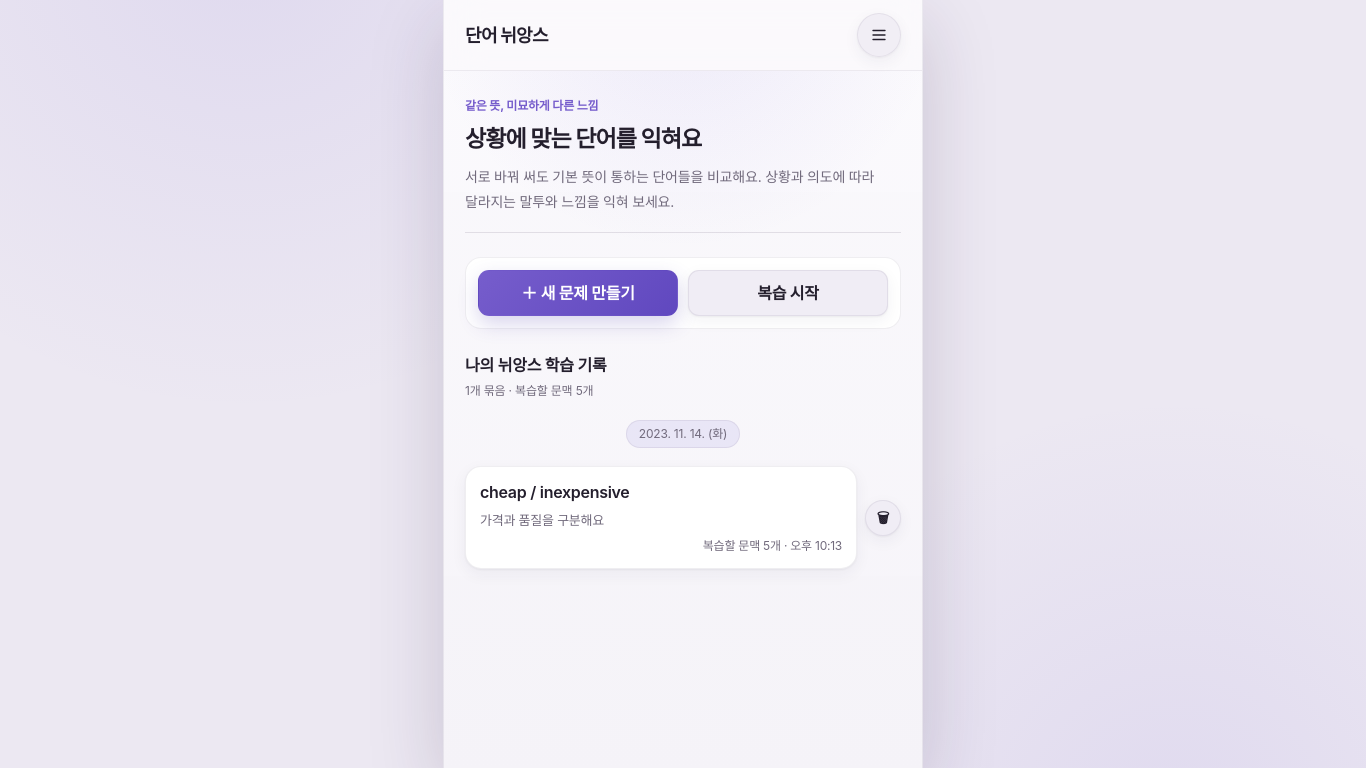
it: lists generated history, omits search and dictionary links, and opens the comparison
Step 1. Click the button with aria-label "cheap / inexpensive 열기" → (555, 492), box [465,466,857,569]
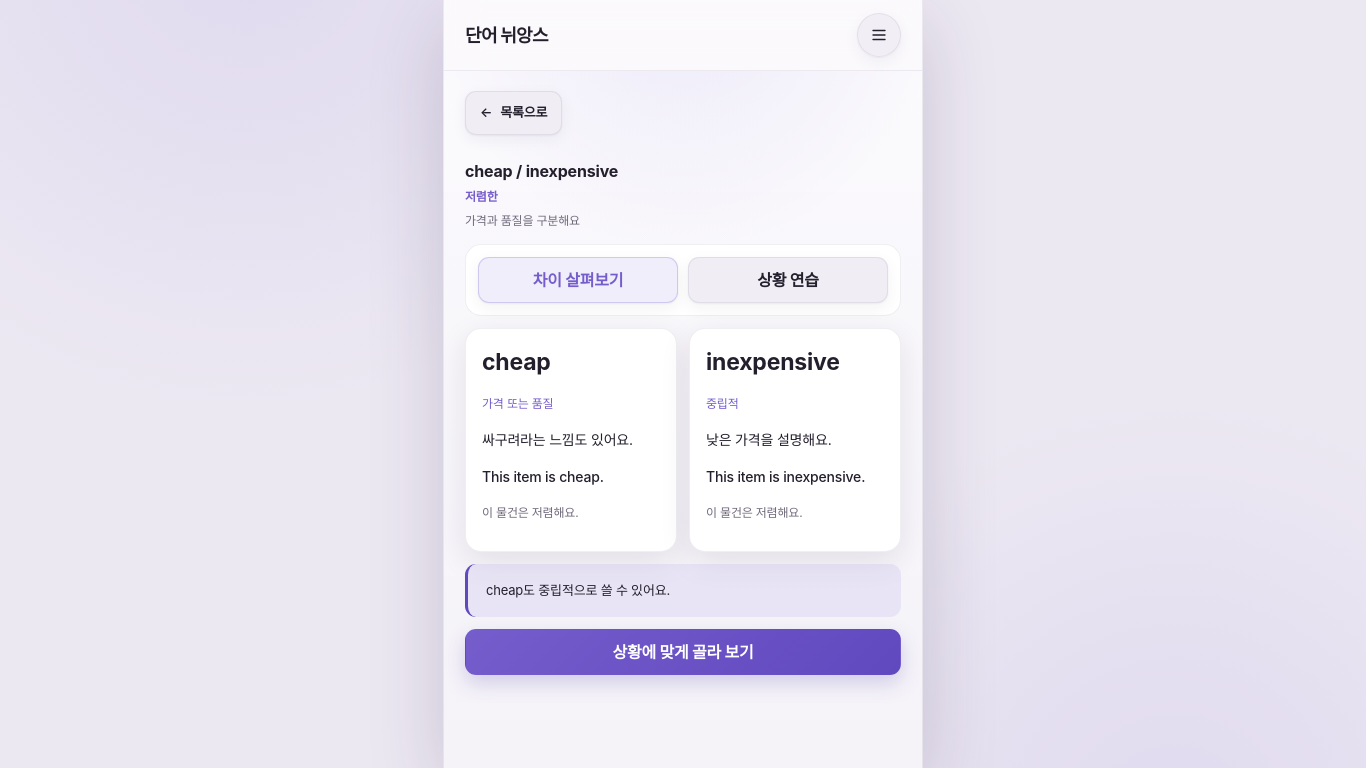
Check: the number of headers is 1, box [444,0,922,71]
Check: the button "상황 연습" is shown, box [688,257,888,303]
Check: the text "cheap도 중립적으로 쓸 수 있어요." is shown, box [465,564,901,617]
Step 2. Click the button "← 목록으로" → (514, 113), box [465,91,562,135]
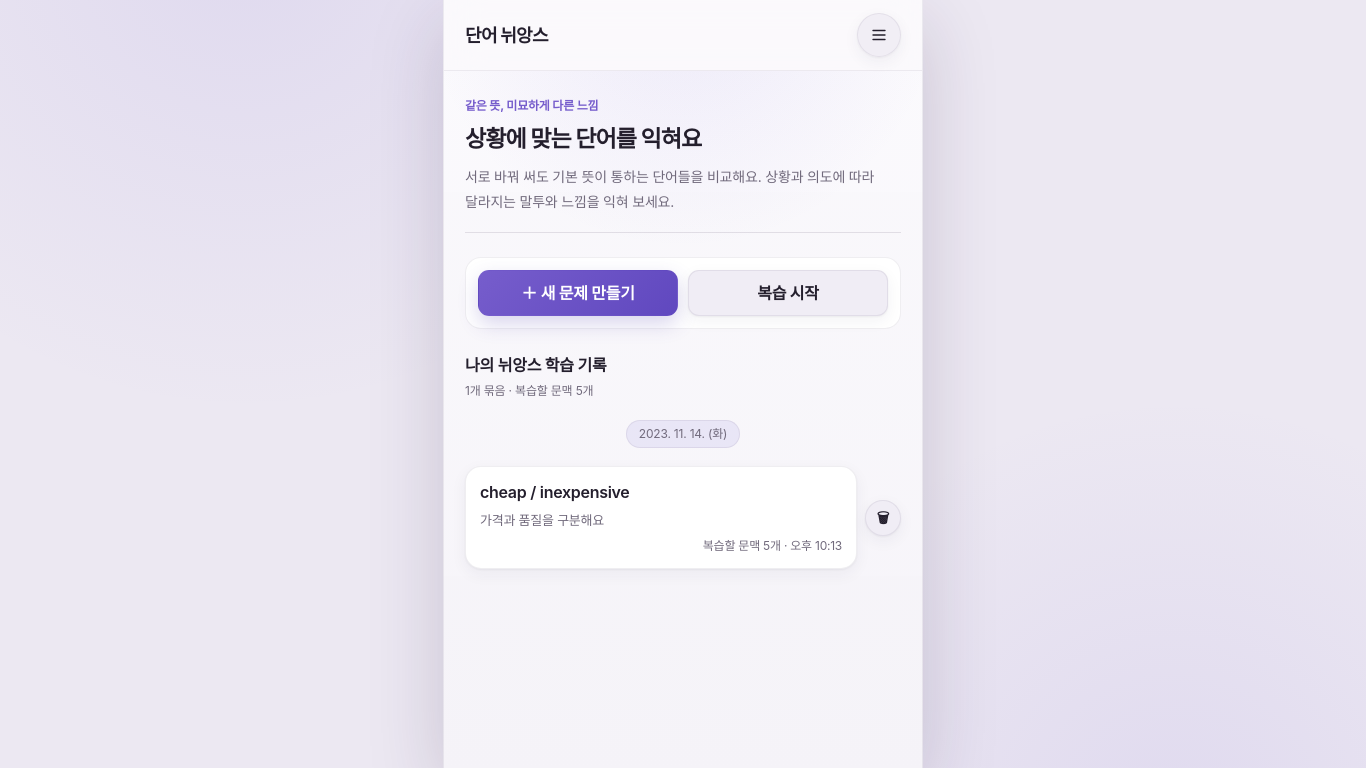
Check: the button "＋ 새 문제 만들기" is shown, box [478,270,678,316]
Check: the button with aria-label "cheap / inexpensive 열기" is enabled, box [465,466,857,569]
Check: the text "같은 뜻, 미묘하게 다른 느낌" is shown, box [465,98,598,113]
